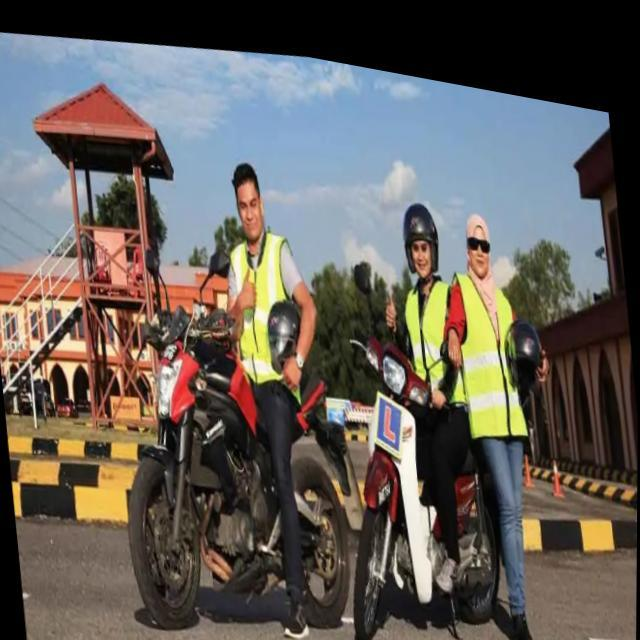Helmet: (393, 198, 443, 283)
Nonhelmet: (222, 153, 270, 250)
